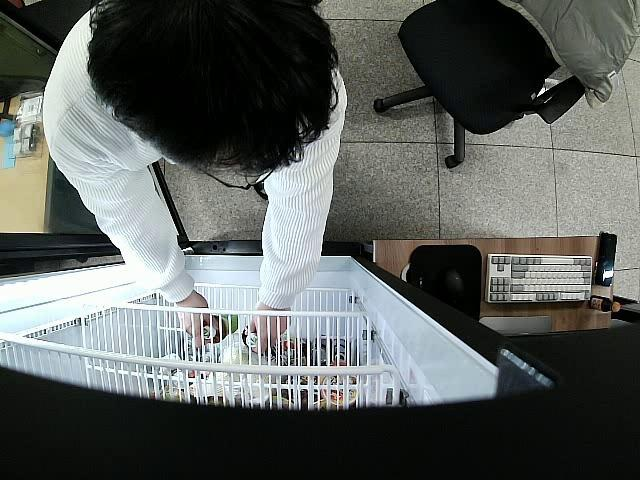19_17cha: (203, 316, 237, 342), (242, 324, 265, 355)
